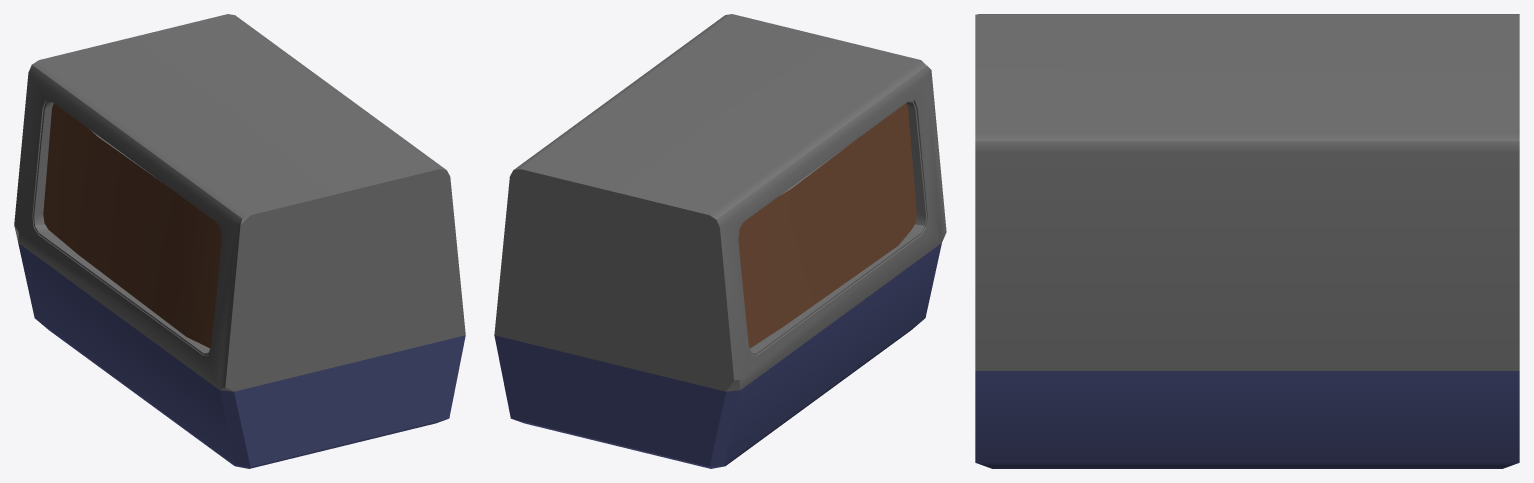
Rendered from NapkinDispenser.fbx.
3 renders of one model, left to right at view 1: azimuth 30°, elevation 25°; view 2: azimuth 150°, elevation 25°; view 3: azimuth 270°, elevation 25°, orthographic. The views are drawn at different scales.
Visible parts, largest first — view 1: NapkinHolder; view 2: NapkinHolder; view 3: NapkinHolder.
Part boxes in pixels (left/top/right/bottom): NapkinHolder: left=14, top=14, right=465, bottom=468; NapkinHolder: left=494, top=14, right=946, bottom=468; NapkinHolder: left=975, top=14, right=1519, bottom=468.
Size of the model in its own units: 20.31 by 20.93 by 30.93.
